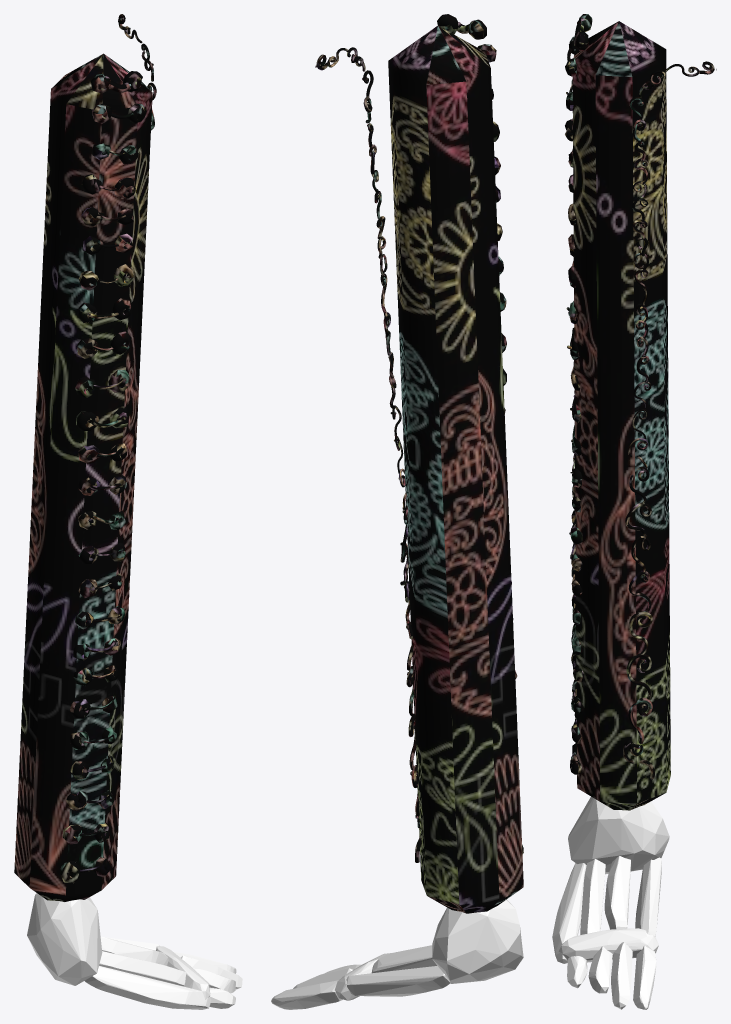
Rendered from pierna-de.obj.
3 views of the same model, side by side, from view 1: azimuth 30°, elevation 25°; view 2: azimuth 150°, elevation 25°; view 3: azimuth 270°, elevation 25° (orthographic). The views are drawn at different scales.
Visible parts, largest first — view 1: Object_13.003, Object_7.003; view 2: Object_13.003, Object_7.003; view 3: Object_13.003, Object_7.003.
Part boxes in pixels (x1,y1,x2,y2): Object_13.003: (14, 14, 156, 901); Object_7.003: (27, 893, 242, 1009); Object_13.003: (315, 14, 523, 913); Object_7.003: (271, 899, 523, 1009); Object_13.003: (565, 14, 716, 810); Object_7.003: (552, 796, 669, 1009).
Bounding box in the file's own units: 0.1965 × 0.8112 × 0.1305.
Materials: 2 (2 with a texture image).
